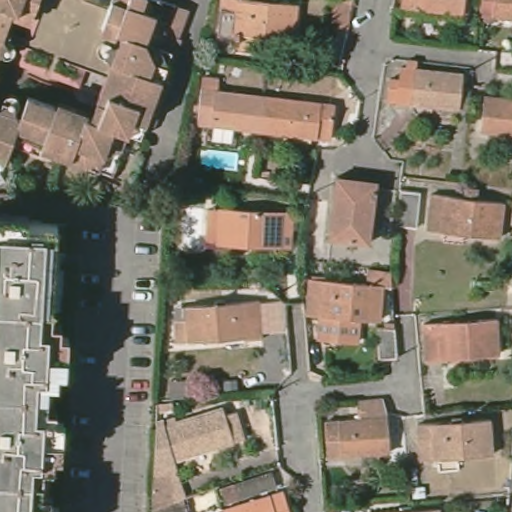pool: (197, 144, 242, 175)
